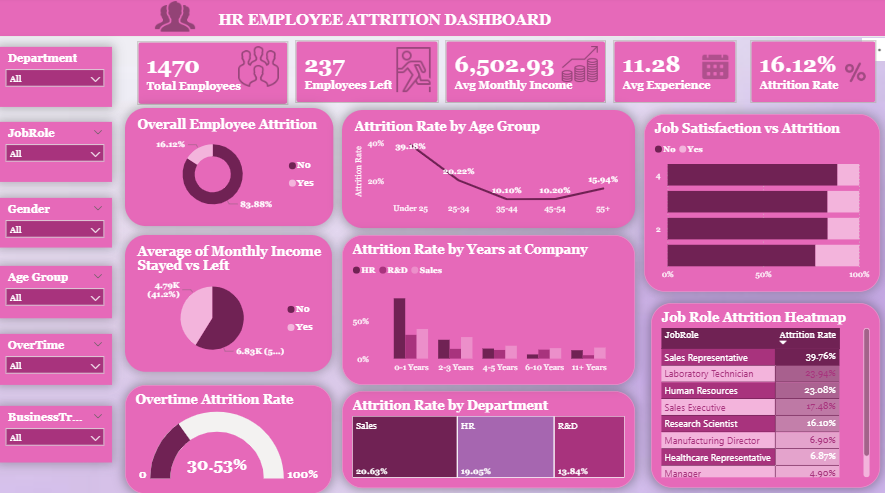

The page's visual inventory and layout, read from the dashboard file:
{"tool":"powerbi","page":{"name":"HR Attrition","canvas":[1280,720],"ordinal":0},"visuals":[{"type":"shape","box":[0,0,1280.2,57.6],"z":0},{"type":"textbox","box":[312.5,14.4,967.7,115.2],"z":1000},{"type":"cardVisual","fields":{"Data":["Measure_Table.Total Employees"]},"box":[195.7,58.6,227.1,101.4],"z":2000},{"type":"cardVisual","fields":{"Data":["Measure_Table.Employees Left"]},"box":[423.4,57.6,216,100.8],"z":3000},{"type":"cardVisual","fields":{"Data":["Measure_Table.Avg_monthly_income"]},"box":[639.4,57.6,241.9,100.8],"z":4000},{"type":"cardVisual","fields":{"Data":["Measure_Table.Average Age"]},"box":[881.3,57.6,187.2,100.8],"z":5000},{"type":"cardVisual","fields":{"Data":["Measure_Table.Attrition Rate"]},"box":[1078.6,57.6,191.5,100.8],"z":6000},{"type":"donutChart","title":"Overall Employee Attrition","fields":{"Category":["WA_Fn-UseC_-HR-Employee-Attrition.Attrition"],"Y":["Measure_Table.Total Employees"]},"box":[182.9,159.8,299.5,169.9],"z":7000},{"type":"gauge","title":"Overtime Attrition Rate","fields":{"Y":["Measure_Table.Overtime Attrition Rate"],"MinValue":["Measure_Table.Gauge Minimum"],"MaxValue":["Measure_Table.Gauge Maximum"]},"box":[182.9,558.7,298.1,157],"z":8000},{"type":"lineChart","fields":{"Category":["WA_Fn-UseC_-HR-Employee-Attrition.Age Group"],"Y":["Measure_Table.Attrition Rate"]},"box":[495.4,162.7,421.9,169.9],"z":9000},{"type":"treemap","title":"Attrition Rate by Department","fields":{"Values":["Measure_Table.Attrition Rate"],"Group":["WA_Fn-UseC_-HR-Employee-Attrition.Department Short"]},"box":[495.4,567.4,421.9,139.7],"z":10000},{"type":"pivotTable","title":"Job Role Attrition Heatmap","fields":{"Rows":["WA_Fn-UseC_-HR-Employee-Attrition.JobRole"],"Values":["Measure_Table.Attrition Rate"]},"box":[940.3,440.6,329.8,266.4],"z":11000},{"type":"hundredPercentStackedBarChart","title":"Job Satisfaction vs Attrition","fields":{"Category":["WA_Fn-UseC_-HR-Employee-Attrition.JobSatisfaction"],"Y":["Measure_Table.Total Employees"],"Series":["WA_Fn-UseC_-HR-Employee-Attrition.Attrition"]},"box":[930.2,168.5,339.8,256.3],"z":12000},{"type":"slicer","fields":{"Values":["WA_Fn-UseC_-HR-Employee-Attrition.Department Short"]},"box":[0,72,164.2,86.4],"z":13000},{"type":"slicer","fields":{"Values":["WA_Fn-UseC_-HR-Employee-Attrition.JobRole"]},"box":[0,180,164.2,86.4],"z":14000},{"type":"slicer","fields":{"Values":["WA_Fn-UseC_-HR-Employee-Attrition.Gender"]},"box":[0,289.4,164.2,70.6],"z":15000},{"type":"slicer","fields":{"Values":["WA_Fn-UseC_-HR-Employee-Attrition.Age Group"]},"box":[0,387.4,164.2,74.9],"z":16000},{"type":"slicer","fields":{"Values":["WA_Fn-UseC_-HR-Employee-Attrition.OverTime"]},"box":[0,485.3,164.2,73.4],"z":17000},{"type":"slicer","fields":{"Values":["WA_Fn-UseC_-HR-Employee-Attrition.BusinessTravel"]},"box":[0,589,164.2,80.6],"z":18000},{"type":"image","box":[205.9,0,97.9,57.6],"z":19000},{"type":"image","box":[224.6,70.6,301,59],"z":20000},{"type":"image","box":[447.8,72,301,64.8],"z":21000},{"type":"pieChart","title":"Average of Monthly Income   Stayed vs Left","fields":{"Category":["WA_Fn-UseC_-HR-Employee-Attrition.Attrition"],"Y":["Avg(WA_Fn-UseC_-HR-Employee-Attrition.MonthlyIncome)"]},"box":[182.9,342.7,298.1,197.3],"z":22000},{"type":"image","box":[810.7,70.6,54.7,51.8],"z":23000},{"type":"image","box":[1008,80.6,50.4,40.3],"z":24000},{"type":"image","box":[1219.7,83.5,30.2,50.4],"z":25000},{"type":"clusteredColumnChart","title":"Attrition Rate by Years at Company ","fields":{"Category":["WA_Fn-UseC_-HR-Employee-Attrition.Years at company group"],"Y":["Measure_Table.Attrition Rate"],"Series":["WA_Fn-UseC_-HR-Employee-Attrition.Department Short"]},"box":[495.4,342.7,421.9,216],"z":26000}]}

Visuals, with their boxes in screenshot pixels (x1, y1, x2, y2), scaled from the page's 1280x720 canvas onto the 885x493 screenshot:
shape: (left=0, top=0, right=884, bottom=39)
textbox: (left=216, top=10, right=884, bottom=89)
cardVisual - Measure_Table.Total Employees: (left=135, top=40, right=292, bottom=110)
cardVisual - Measure_Table.Employees Left: (left=293, top=39, right=442, bottom=108)
cardVisual - Measure_Table.Avg_monthly_income: (left=442, top=39, right=609, bottom=108)
cardVisual - Measure_Table.Average Age: (left=609, top=39, right=739, bottom=108)
cardVisual - Measure_Table.Attrition Rate: (left=746, top=39, right=878, bottom=108)
"Overall Employee Attrition" donutChart: (left=126, top=109, right=334, bottom=226)
"Overtime Attrition Rate" gauge: (left=126, top=383, right=333, bottom=490)
lineChart - WA_Fn-UseC_-HR-Employee-Attrition.Age Group x Measure_Table.Attrition Rate: (left=343, top=111, right=634, bottom=228)
"Attrition Rate by Department" treemap: (left=343, top=389, right=634, bottom=484)
"Job Role Attrition Heatmap" pivotTable: (left=650, top=302, right=878, bottom=484)
"Job Satisfaction vs Attrition" hundredPercentStackedBarChart: (left=643, top=115, right=878, bottom=291)
slicer - WA_Fn-UseC_-HR-Employee-Attrition.Department Short: (left=0, top=49, right=114, bottom=108)
slicer - WA_Fn-UseC_-HR-Employee-Attrition.JobRole: (left=0, top=123, right=114, bottom=182)
slicer - WA_Fn-UseC_-HR-Employee-Attrition.Gender: (left=0, top=198, right=114, bottom=246)
slicer - WA_Fn-UseC_-HR-Employee-Attrition.Age Group: (left=0, top=265, right=114, bottom=317)
slicer - WA_Fn-UseC_-HR-Employee-Attrition.OverTime: (left=0, top=332, right=114, bottom=383)
slicer - WA_Fn-UseC_-HR-Employee-Attrition.BusinessTravel: (left=0, top=403, right=114, bottom=458)
image: (left=142, top=0, right=210, bottom=39)
image: (left=155, top=48, right=363, bottom=89)
image: (left=310, top=49, right=518, bottom=94)
"Average of Monthly Income   Stayed vs Left" pieChart: (left=126, top=235, right=333, bottom=370)
image: (left=561, top=48, right=598, bottom=84)
image: (left=697, top=55, right=732, bottom=83)
image: (left=843, top=57, right=864, bottom=92)
"Attrition Rate by Years at Company " clusteredColumnChart: (left=343, top=235, right=634, bottom=383)
